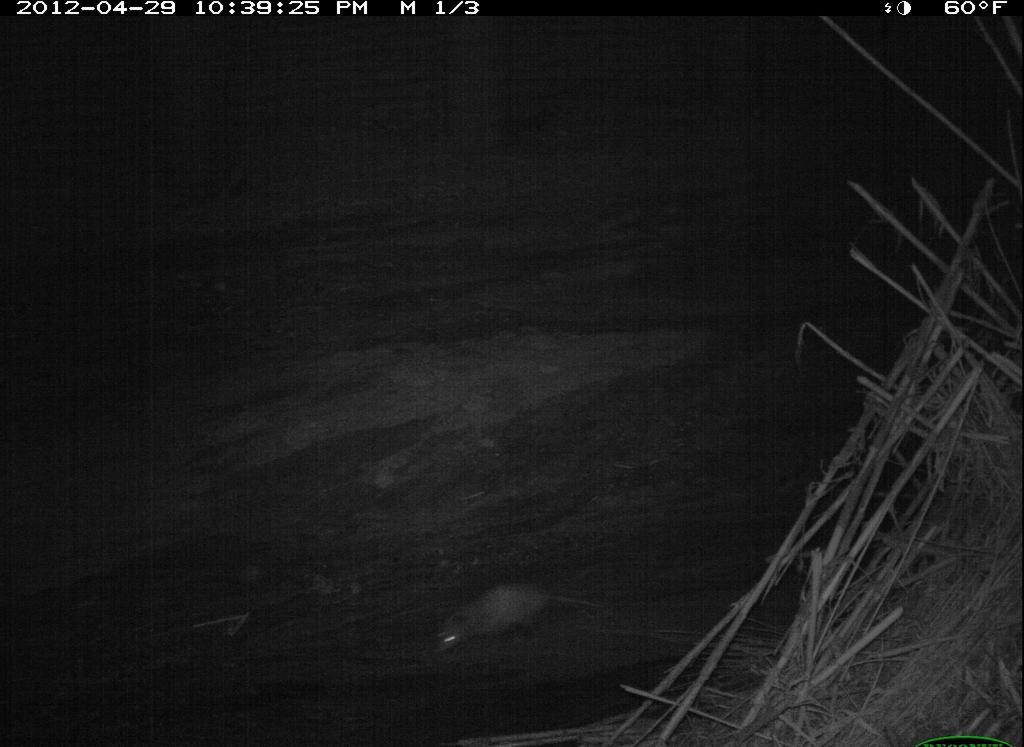opossum: (420, 580, 615, 664)
